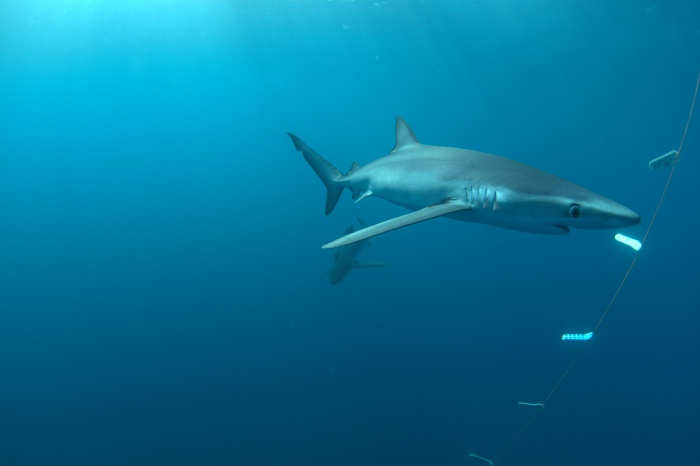Azul: (278, 99, 635, 304)
